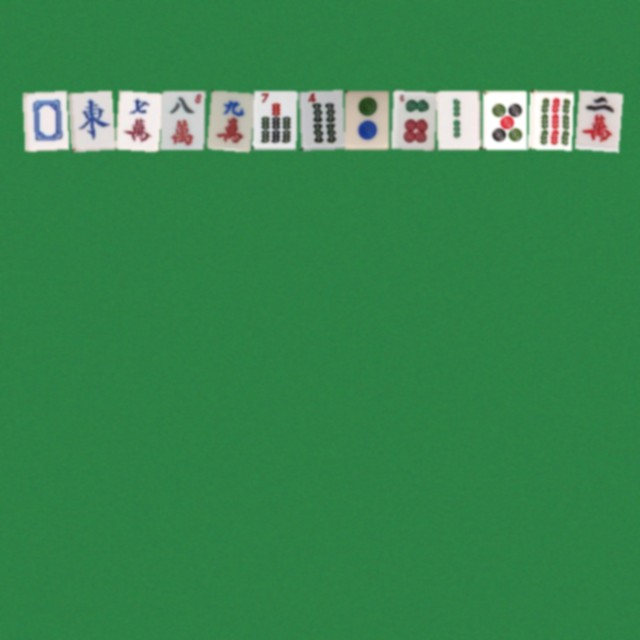tile: (22, 90, 66, 149), (68, 90, 112, 149), (114, 90, 158, 149), (160, 90, 204, 149), (206, 90, 250, 149), (252, 90, 296, 149), (298, 90, 342, 149), (344, 90, 388, 149), (390, 90, 434, 149), (436, 90, 480, 149), (482, 90, 526, 149), (528, 90, 572, 149), (574, 90, 618, 149)
